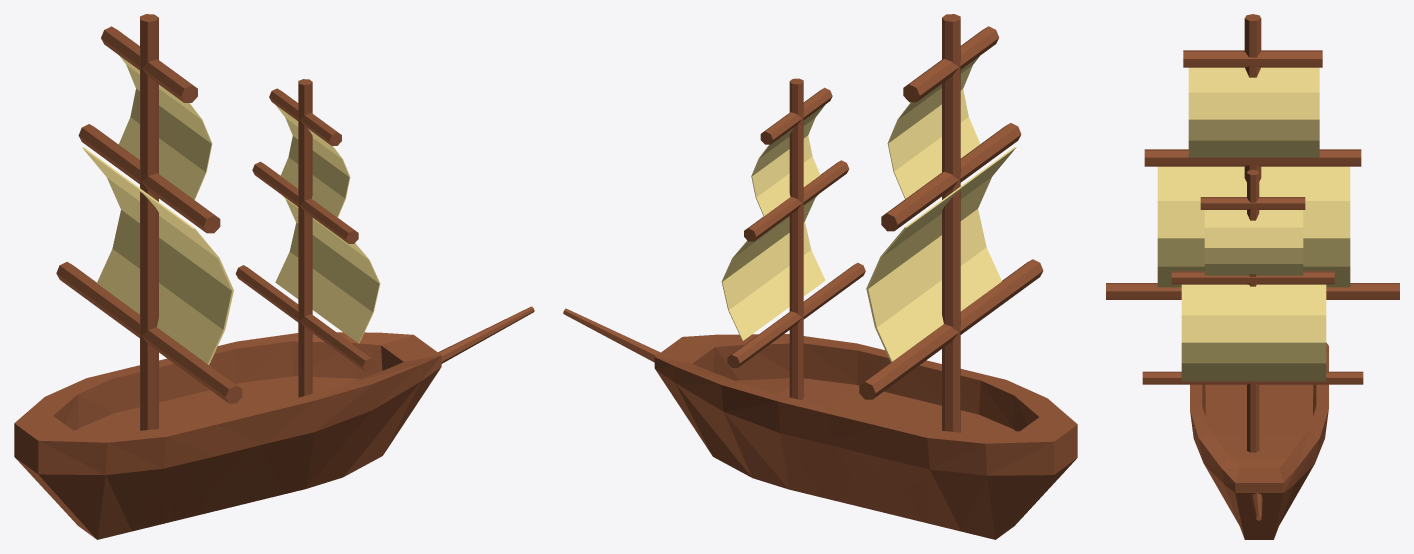
Rendered from ship_prototype.fbx.
3 renders of one model, left to right at view 1: azimuth 30°, elevation 25°; view 2: azimuth 150°, elevation 25°; view 3: azimuth 270°, elevation 25°, orthographic. The views are drawn at different scales.
Parts seen in each view (by area): view 1: Ship; view 2: Ship; view 3: Ship.
Part boxes in pixels (x1=…): Ship: x1=14, y1=14, x2=534, y2=539; Ship: x1=563, y1=14, x2=1077, y2=539; Ship: x1=1106, y1=14, x2=1399, y2=539.
Size of the model in its own units: 0.5842 by 1.01 by 0.9581.
